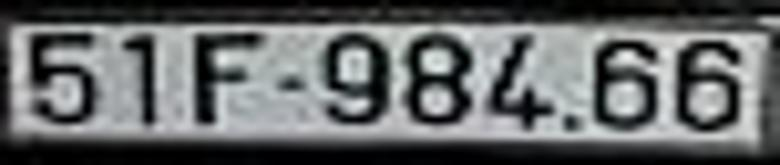-: (274, 75, 309, 94)
.: (563, 111, 583, 133)
1: (122, 27, 164, 125)
4: (485, 31, 554, 129)
5: (29, 32, 98, 132)
6: (676, 35, 741, 132), (592, 39, 659, 126)
8: (406, 33, 472, 128)
9: (324, 32, 390, 125)
F: (193, 24, 264, 125)
